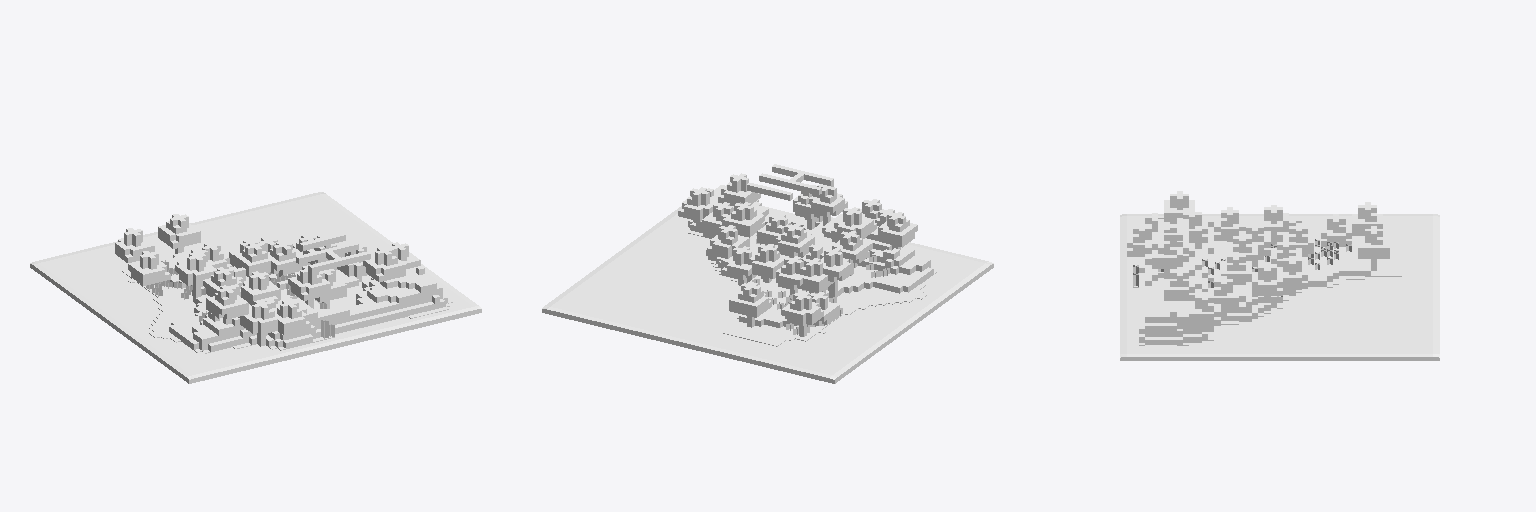
Rendered from BasicTest.obj.
The picture shows the model from 3 angles: view 1: azimuth 30°, elevation 25°; view 2: azimuth 150°, elevation 25°; view 3: azimuth 270°, elevation 25°; orthographic projection.
Visible parts, largest first — view 1: To_BeExported__225_62_-106_to_278_255_-56; view 2: To_BeExported__225_62_-106_to_278_255_-56; view 3: To_BeExported__225_62_-106_to_278_255_-56.
Part boxes in pixels (bbox=[...]): To_BeExported__225_62_-106_to_278_255_-56: bbox=[30, 192, 481, 383]; To_BeExported__225_62_-106_to_278_255_-56: bbox=[542, 164, 993, 383]; To_BeExported__225_62_-106_to_278_255_-56: bbox=[1120, 191, 1439, 360].
Size of the model in its own units: 54 by 12 by 51.